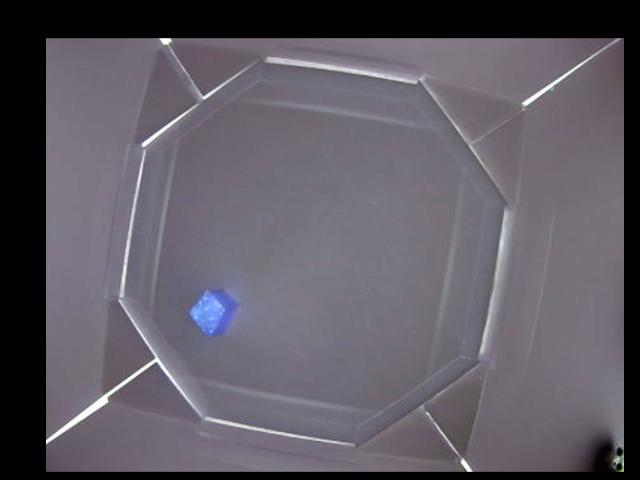Potato: (191, 287, 239, 334)
